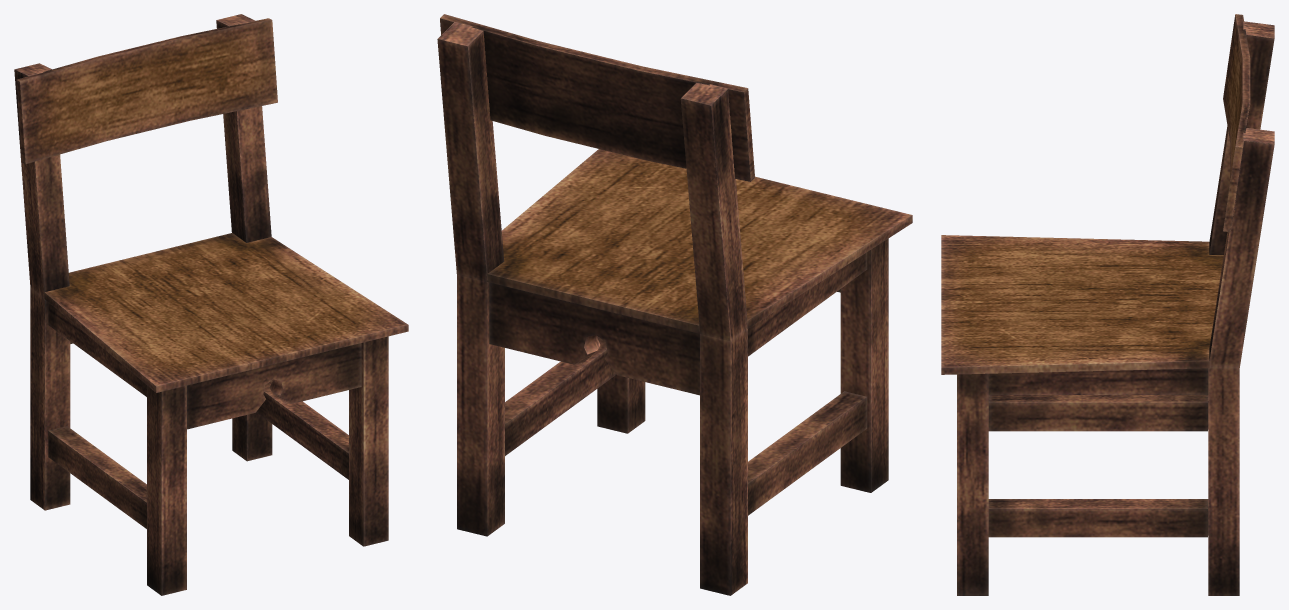
The model's file is chair.fbx.
The picture shows the model from 3 angles, left to right: view 1: azimuth 30°, elevation 25°; view 2: azimuth 150°, elevation 25°; view 3: azimuth 270°, elevation 25°; orthographic projection. The views are drawn at different scales.
Visible parts, largest first — view 1: chair; view 2: chair; view 3: chair.
Part boxes in pixels (x1,y1,x2,y2): chair: (14, 14, 408, 595); chair: (437, 14, 912, 595); chair: (941, 14, 1274, 595).
Size of the model in its own units: 2 by 3.2 by 2.12.
